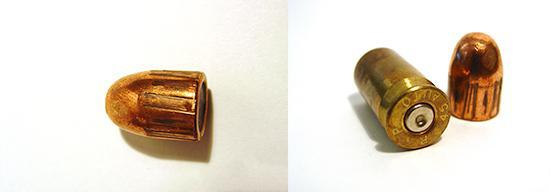Bullet: (98, 63, 213, 149), (440, 31, 514, 124)
